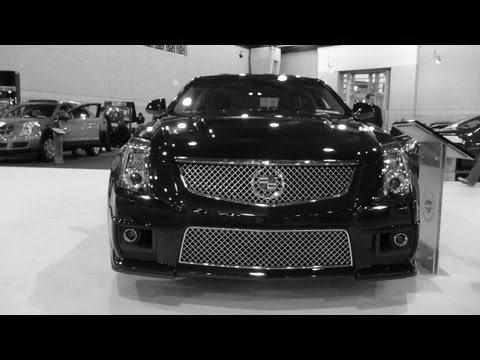car: (106, 75, 419, 281)
